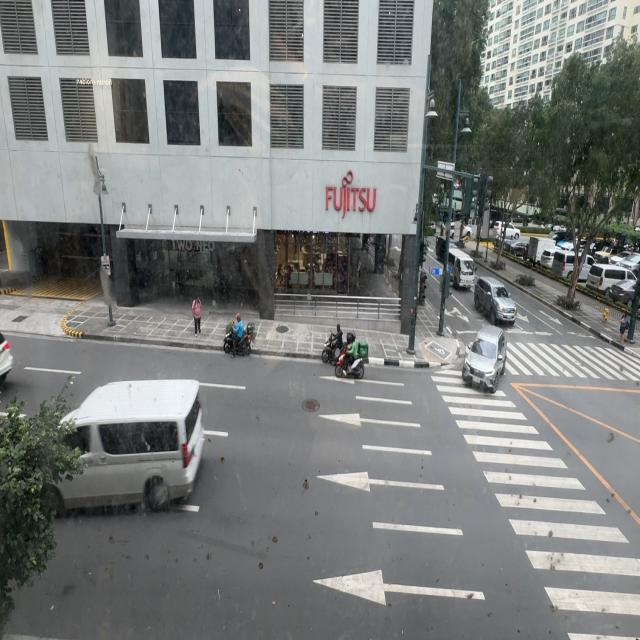pedestrain: (192, 296, 202, 336)
waiting: (620, 313, 628, 343)
